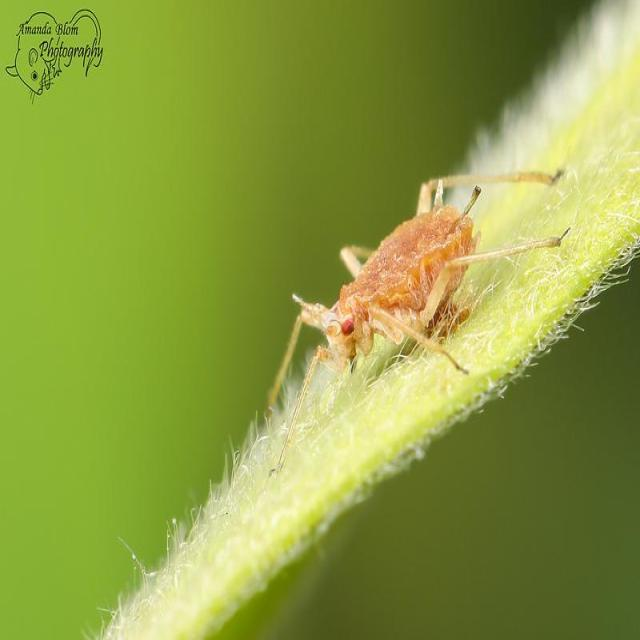aphid: (269, 131, 582, 447)
